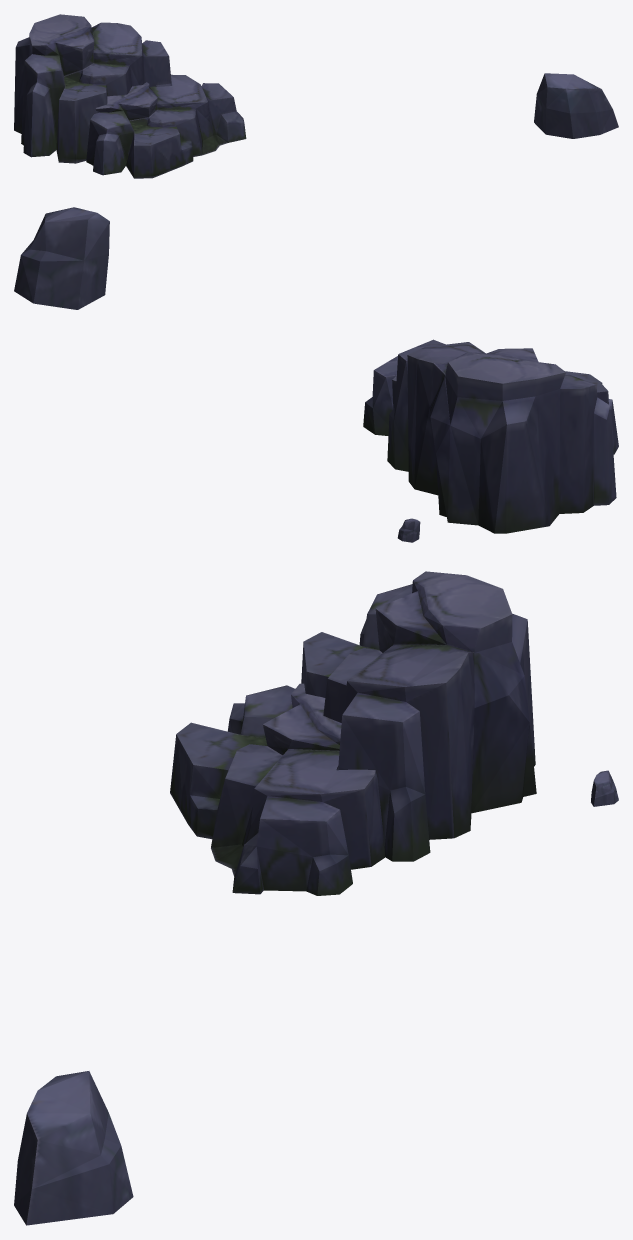
The model's file is Area10_12.fbx.
The picture shows the model from 3 angles, top to bottom: view 1: azimuth 30°, elevation 25°; view 2: azimuth 150°, elevation 25°; view 3: azimuth 270°, elevation 25°; orthographic projection. The views are drawn at different scales.
Parts seen in each view (by area): view 1: Area10_12; view 2: Area10_12; view 3: Area10_12.
Part boxes in pixels (x1,y1,x2,y2): Area10_12: (14, 14, 618, 178); Area10_12: (14, 207, 618, 542); Area10_12: (14, 571, 618, 1225).
Size of the model in its own units: 4122 by 958 by 2340.
